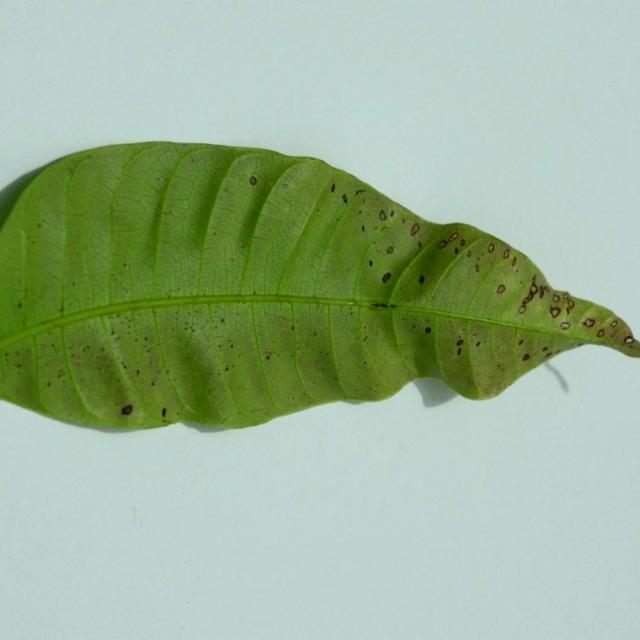Anthracnose: (95, 310, 181, 413), (170, 311, 254, 404), (361, 208, 446, 297), (451, 237, 512, 298), (521, 278, 570, 351), (12, 304, 77, 345), (135, 288, 285, 305), (175, 317, 220, 337), (479, 377, 504, 397), (370, 302, 393, 308), (381, 272, 392, 284), (410, 223, 420, 236), (121, 405, 133, 415), (449, 232, 459, 242), (275, 315, 288, 322), (379, 224, 390, 232), (57, 369, 66, 378), (379, 210, 387, 220), (488, 243, 496, 253), (437, 240, 447, 248), (249, 176, 257, 185), (341, 194, 348, 204), (503, 249, 510, 259), (355, 189, 366, 195), (386, 246, 394, 254), (522, 353, 530, 361), (456, 339, 464, 346), (188, 156, 196, 163), (331, 183, 336, 193), (281, 183, 289, 189), (389, 208, 394, 217), (457, 347, 462, 356), (368, 260, 374, 267), (110, 329, 115, 336), (220, 317, 225, 323), (361, 225, 365, 232), (59, 307, 64, 312), (18, 302, 22, 308), (37, 223, 41, 227)
Mango: (0, 141, 639, 435)
